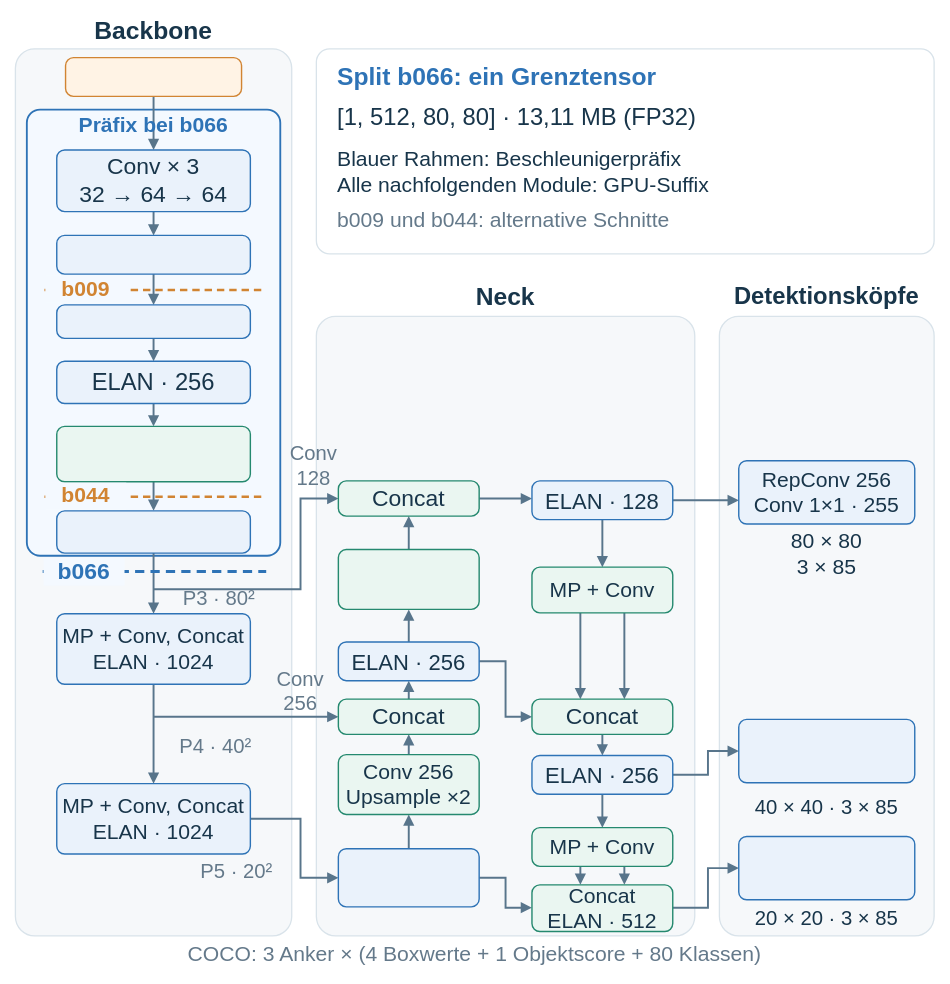
Image size: 950x984. Some labels were removed from this diagram. Each missing label, with the box of its shape:
Bild 640 × 640: (64, 56, 242, 97)
Conv 128 Upsample ×2: (337, 548, 479, 610)
Conv 128, s = 2: (56, 234, 251, 274)
ELAN · 512: (56, 510, 251, 553)
MP + Conv Concat: (56, 425, 251, 482)
RepConv 1024 Conv 1×1 · 255: (738, 835, 915, 900)
RepConv 512 Conv 1×1 · 255: (738, 718, 915, 783)
SiLU: (56, 304, 251, 339)
SPPCSPC 512: (337, 848, 479, 907)
